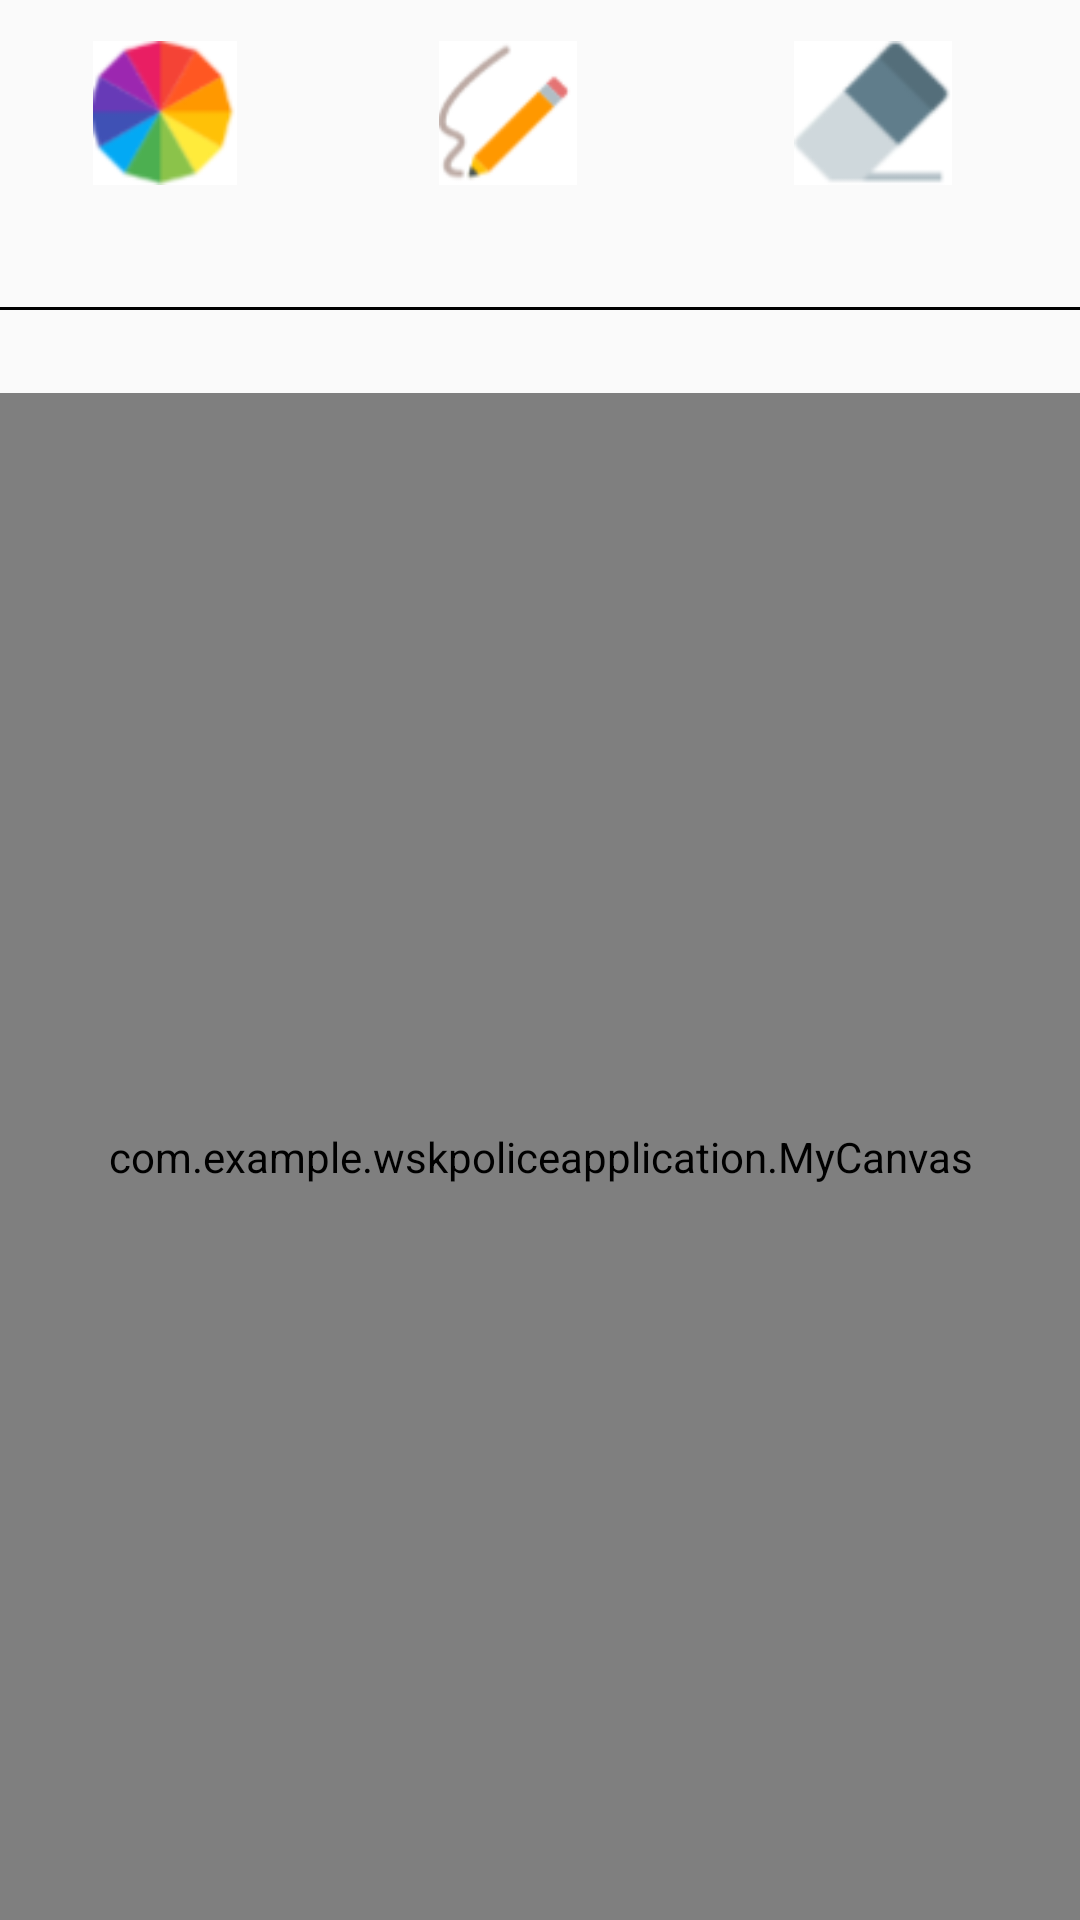

Where to tap for icons on this 1080*1920 app screen, as (x=x, y=y):
eraser: (x=872, y=111)
palitra: (x=163, y=113)
pencil: (x=503, y=112)
